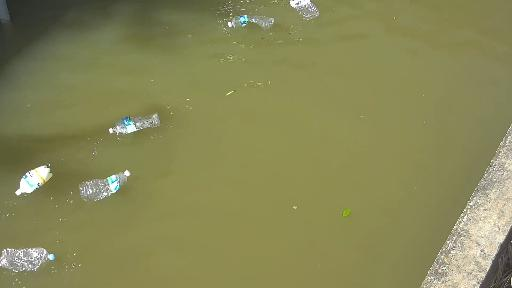leaf: (344, 208, 354, 218)
plastic: (0, 233, 66, 282), (73, 161, 147, 204), (4, 155, 66, 203), (92, 110, 172, 141), (213, 10, 297, 35), (282, 0, 341, 35)
